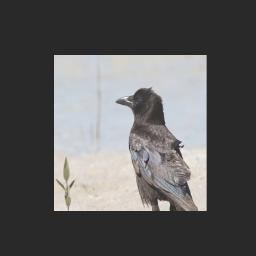Crow: (114, 86, 199, 211)
